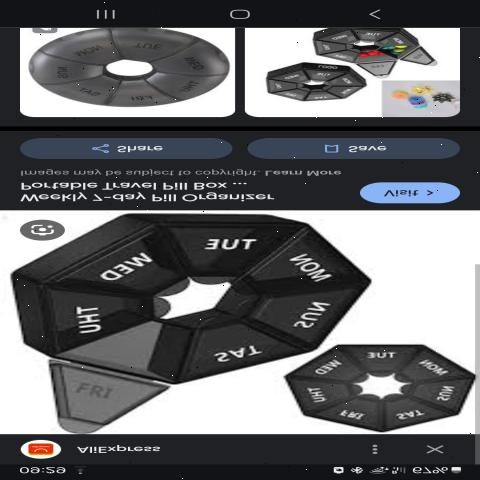Pill: (11, 212, 366, 436), (260, 345, 480, 440)
